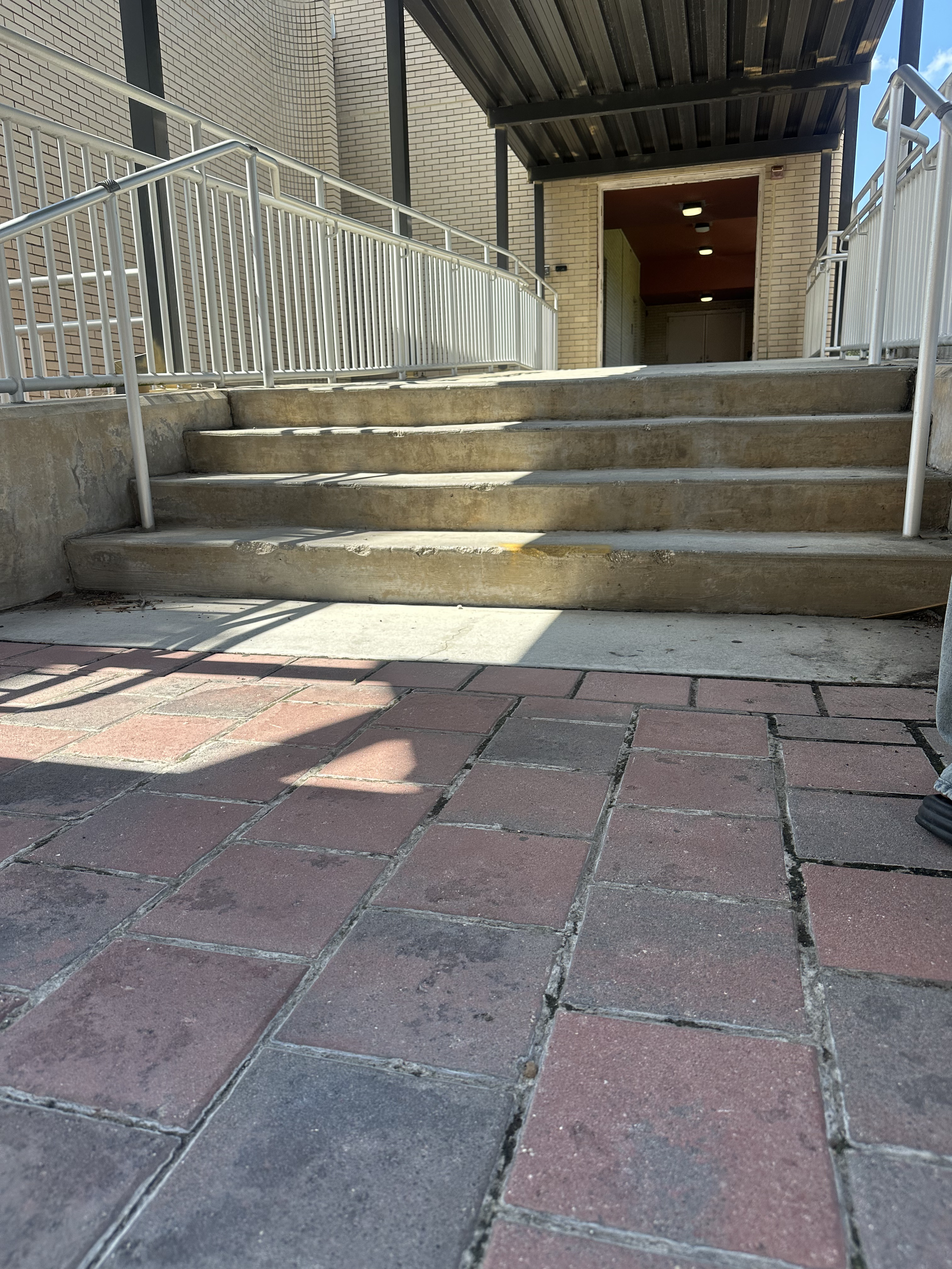stairs: (73, 362, 952, 619)
